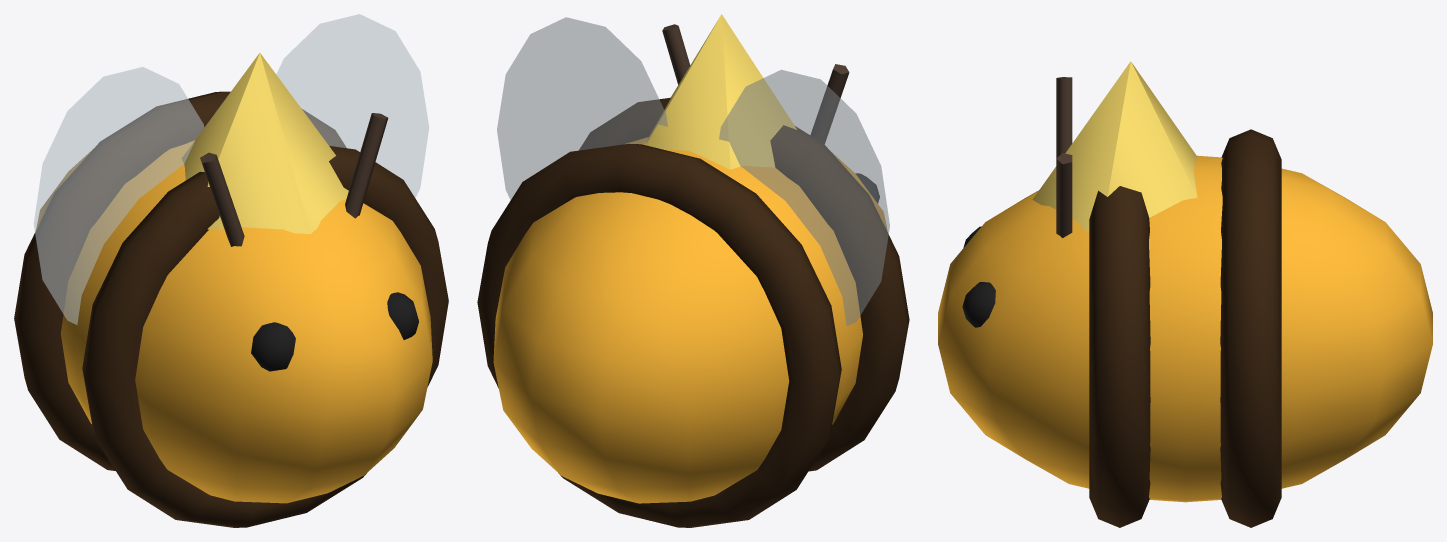
The model's file is queen-bee.glb.
3 renders of one model, left to right at view 1: azimuth 30°, elevation 25°; view 2: azimuth 150°, elevation 25°; view 3: azimuth 270°, elevation 25°, orthographic. The views are drawn at different scales.
Size of the model in its own units: 0.5025 by 0.5628 by 0.5655.
